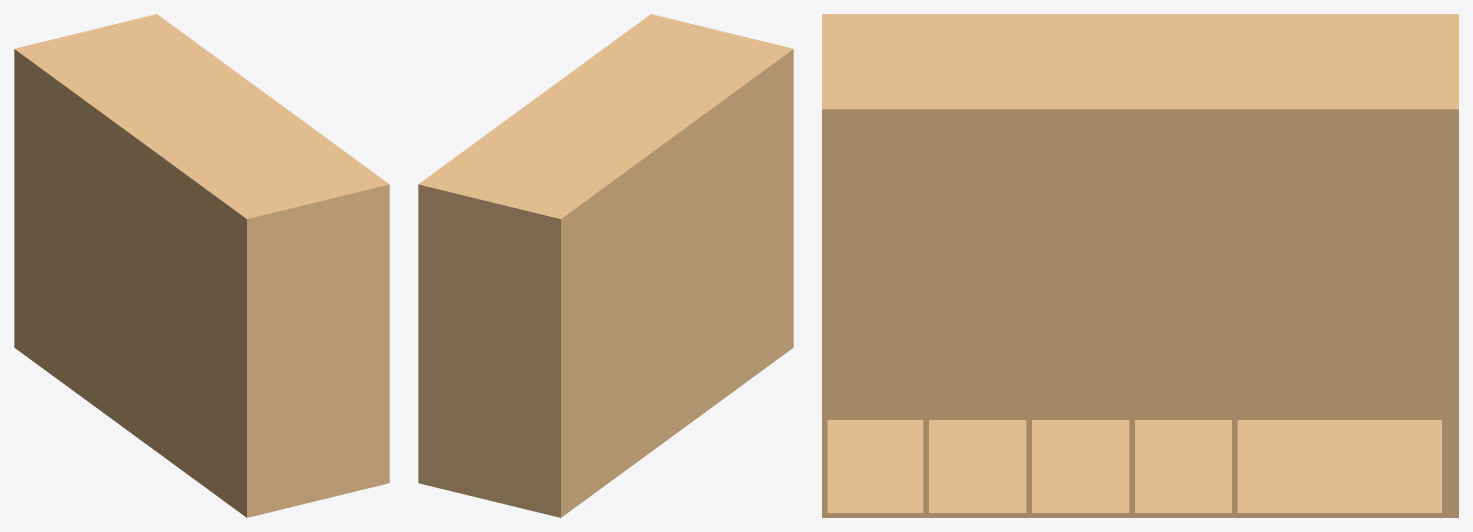
3 renders of one model, left to right at view 1: azimuth 30°, elevation 25°; view 2: azimuth 150°, elevation 25°; view 3: azimuth 270°, elevation 25°, orthographic. The views are drawn at different scales.
Parts seen in each view (by area): view 1: ROOT_link (×5); view 2: ROOT_link (×5); view 3: ROOT_link (×9).
Boxes of the visible parts, x1,y1,x2,y2 form: ROOT_link (×5): (14,14,389,517); ROOT_link (×5): (418,14,793,517); ROOT_link (×9): (822,14,1458,517).
Size of the model in its own units: 0.4 by 0.8 by 1.13.
